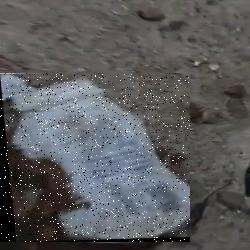plastic: (0, 73, 190, 242)
